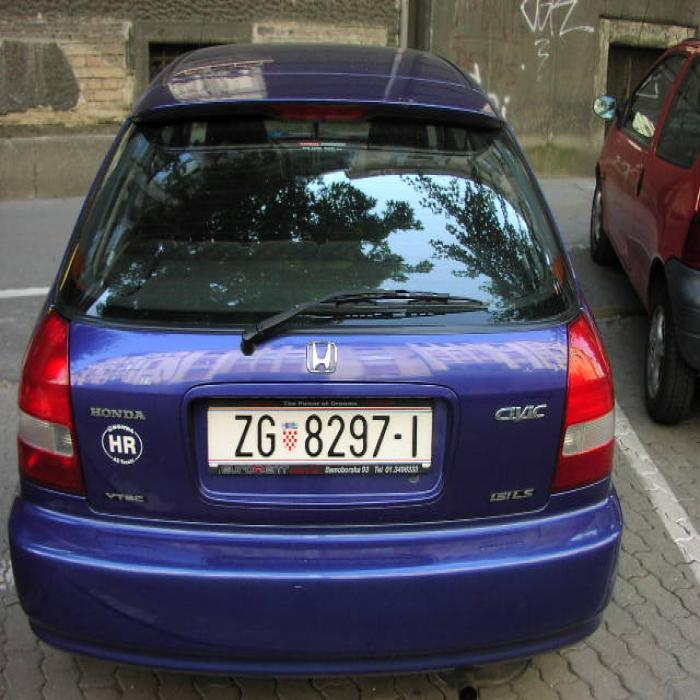number_plate: (206, 408, 428, 461)
